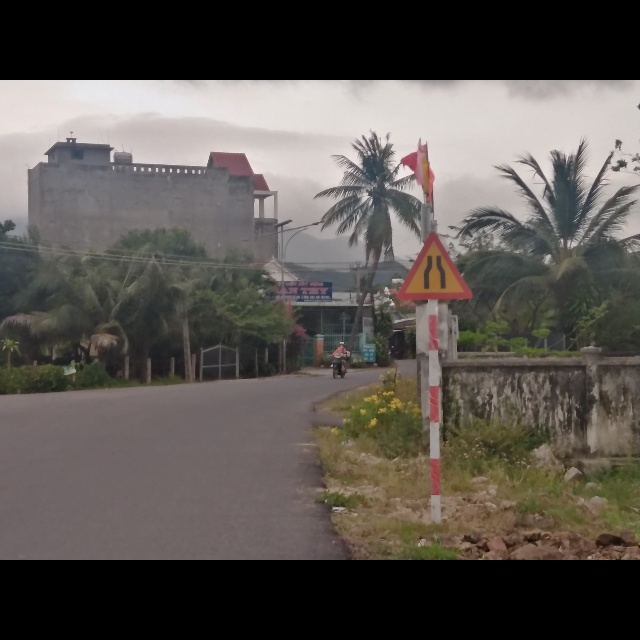Đường bị hẹp cả hai bên: (394, 231, 475, 302)
